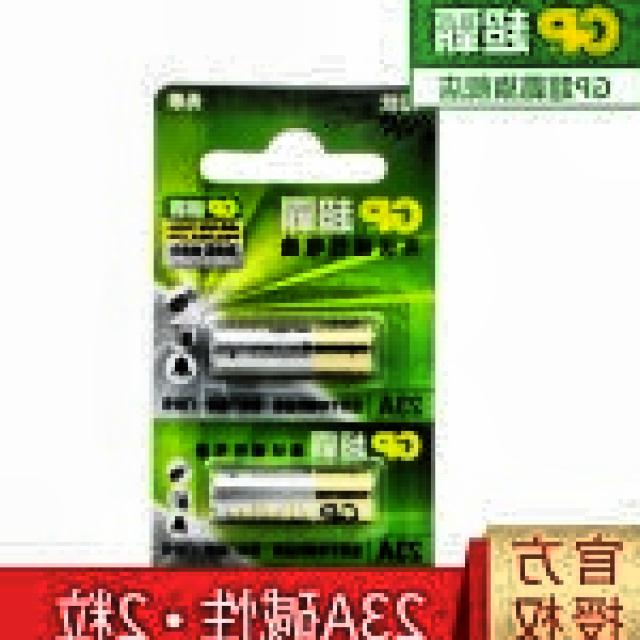Non-Valuable Waste - Batteries: (210, 469, 375, 523), (209, 325, 373, 377)
